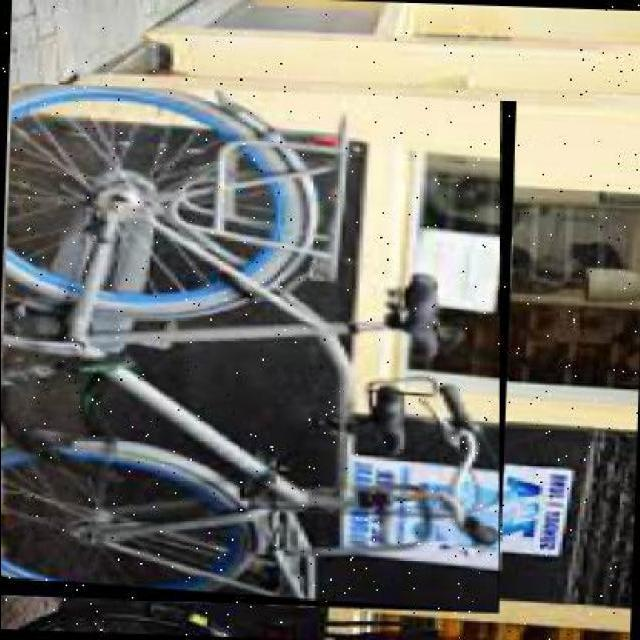bicycle: (2, 82, 516, 614)
